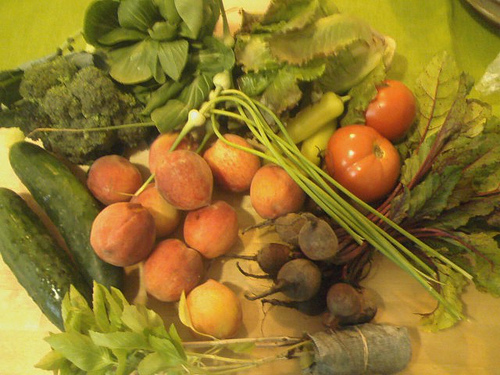cucumber: (9, 140, 127, 294), (0, 186, 95, 331)
